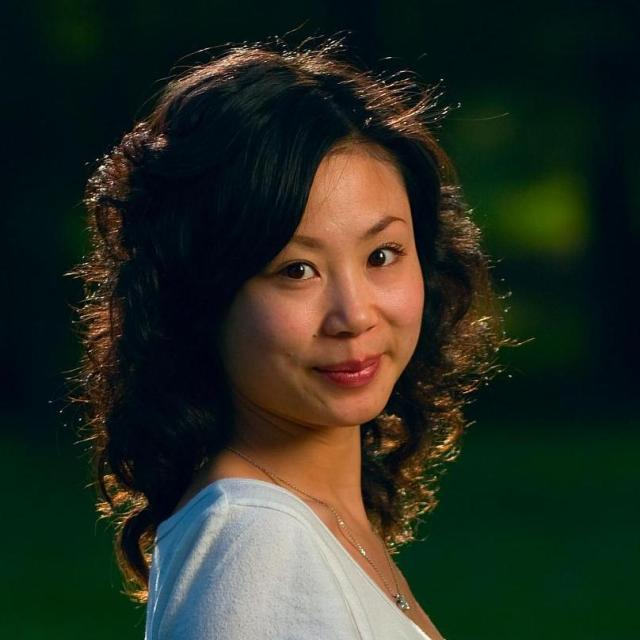no-glass: (264, 235, 406, 292)
